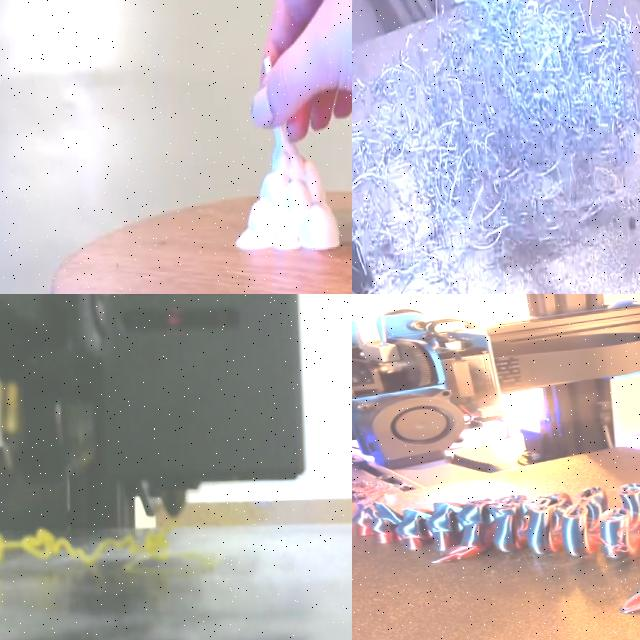spaghetti: (352, 0, 640, 294), (0, 529, 169, 565)
